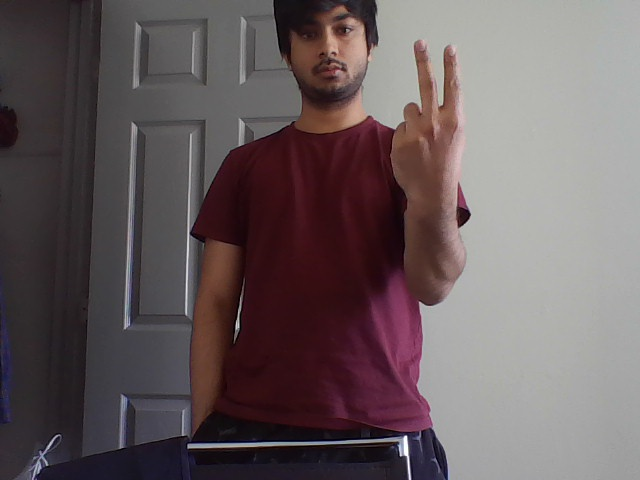two: (405, 30, 478, 136)
